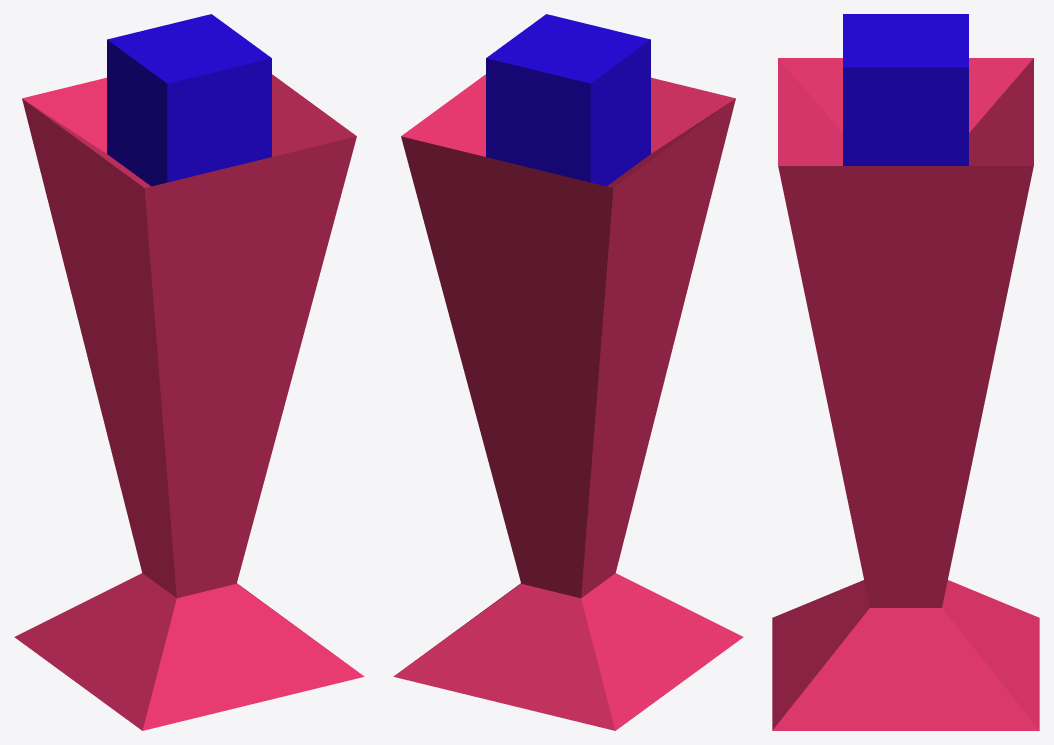
The picture shows the model from 3 angles, left to right: view 1: azimuth 30°, elevation 25°; view 2: azimuth 150°, elevation 25°; view 3: azimuth 270°, elevation 25°; orthographic projection. The views are drawn at different scales.
Visible parts, largest first — view 1: Cube; view 2: Cube; view 3: Cube.
Part boxes in pixels (bbox=[...]): Cube: bbox=[14, 14, 364, 730]; Cube: bbox=[393, 14, 743, 730]; Cube: bbox=[772, 14, 1039, 730].
Bounding box in the file's own units: 4.12 × 10.77 × 4.12.
